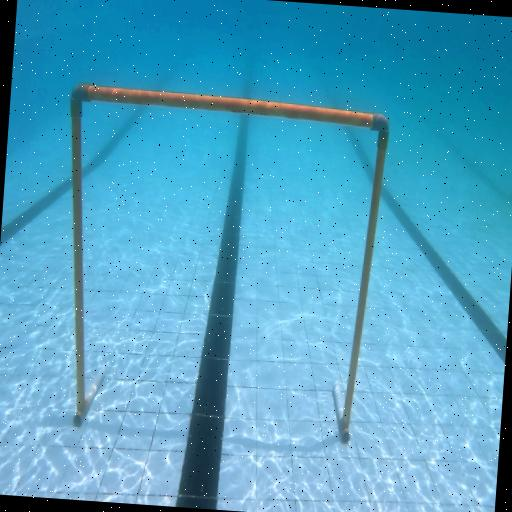gate: (49, 84, 390, 446)
